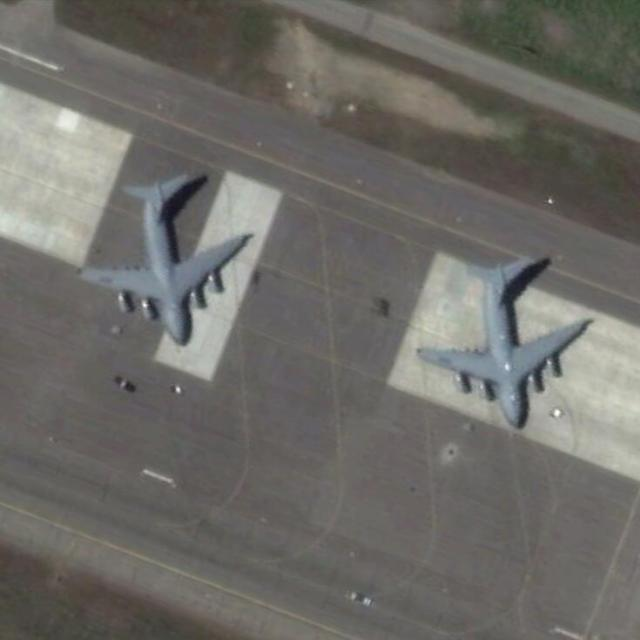fighter jet: (89, 174, 247, 343), (436, 260, 588, 432)
